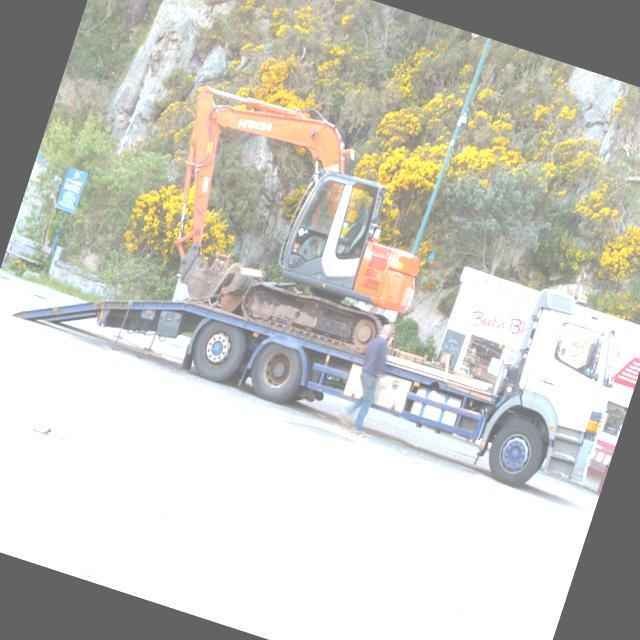Vehicle: (13, 0, 640, 505)
